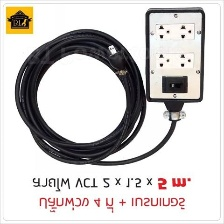three_eye_plug: (143, 6, 205, 104)
